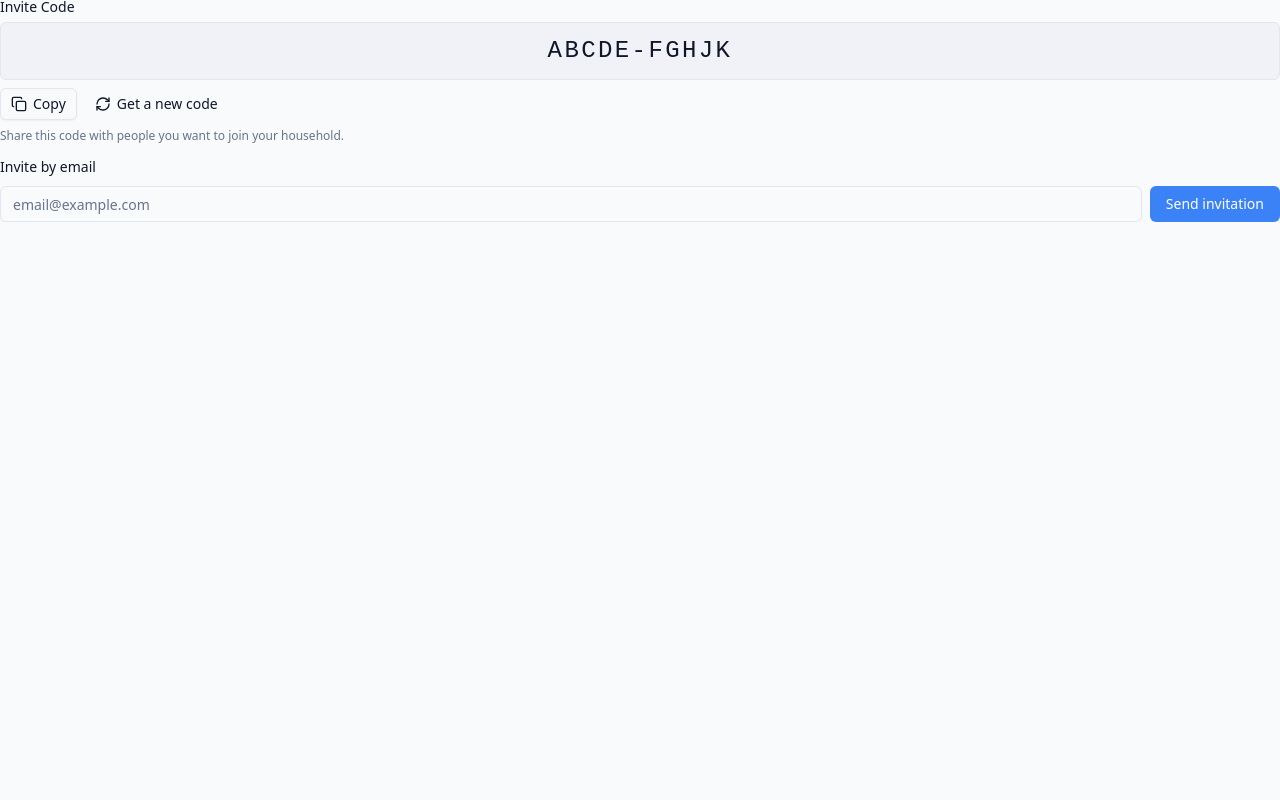
Scenario: InviteForm invite code card › confirms, rotates, and shows the new code
This screenshot has width=1280, height=800.
What coordinates should you click on to do the following:
click the button "Get a new code"
I would click on:
 (156, 104)
Its box is left=85, top=88, right=228, bottom=120.
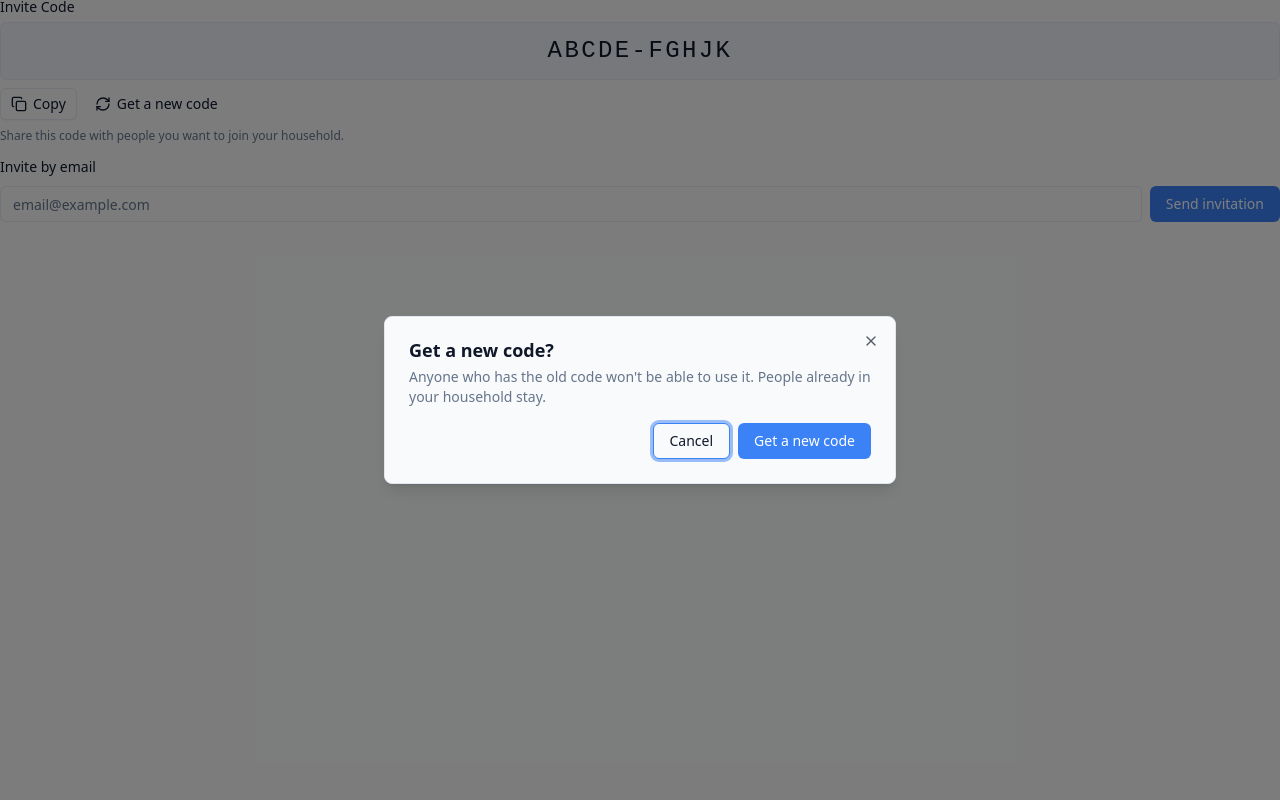
Result: the text "Anyone who has the old code won't be able to use it. People already in your household stay." is shown at left=409, top=367, right=871, bottom=406
What coordinates should you click on to do the following:
click the button "Get a new code"
I would click on:
 (805, 441)
Its box is left=738, top=423, right=871, bottom=459.
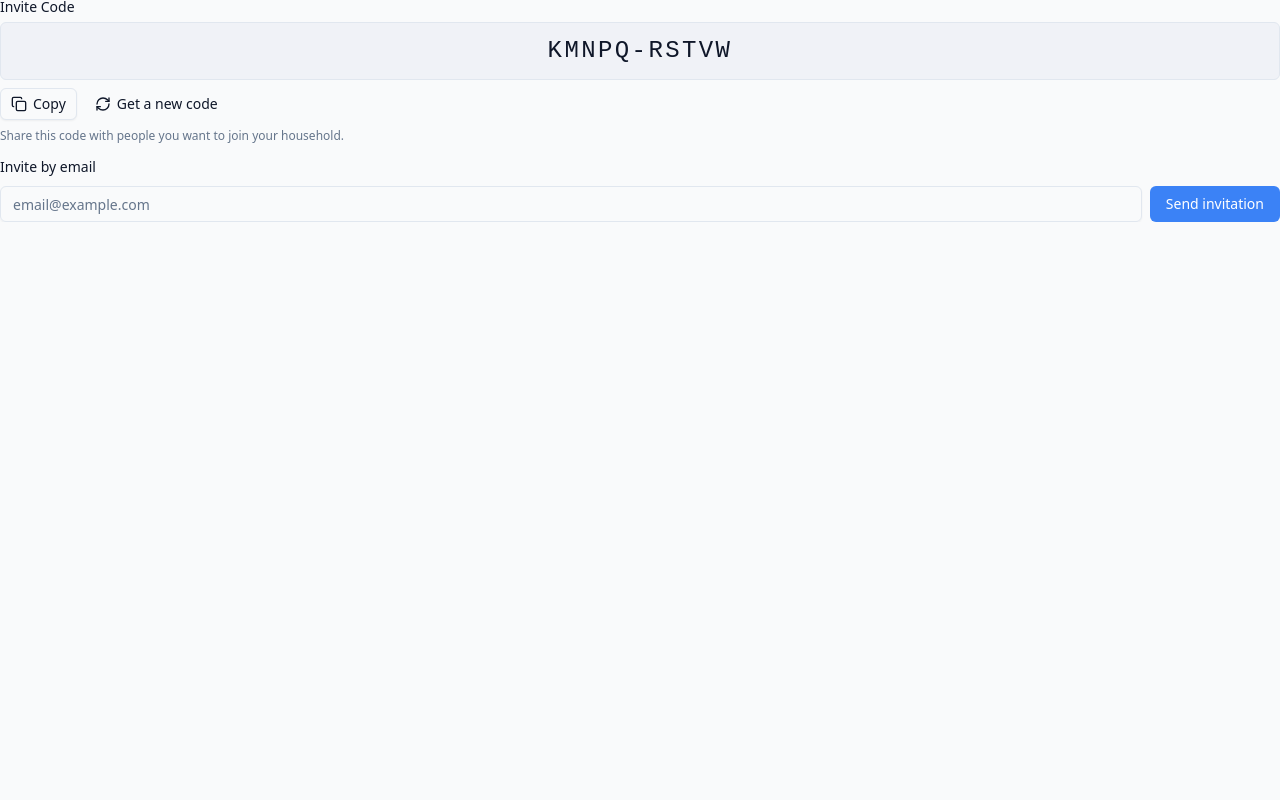
Result: the text "KMNPQ-RSTVW" is shown at left=0, top=22, right=1279, bottom=80
